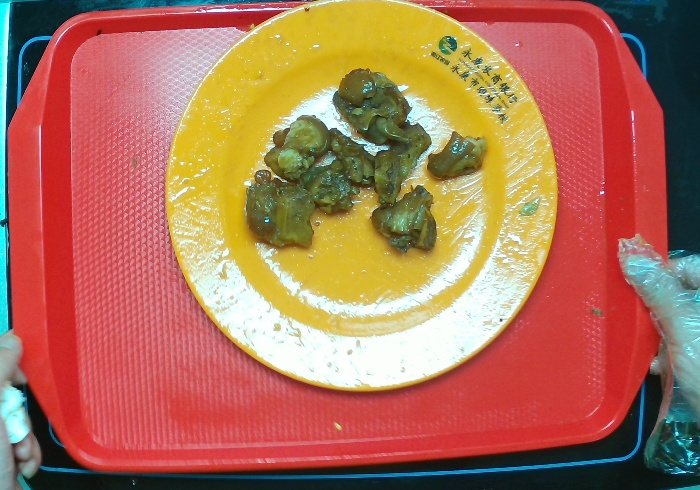YKMZ-Ju_Se_Mian_Pan: (158, 1, 567, 398)
